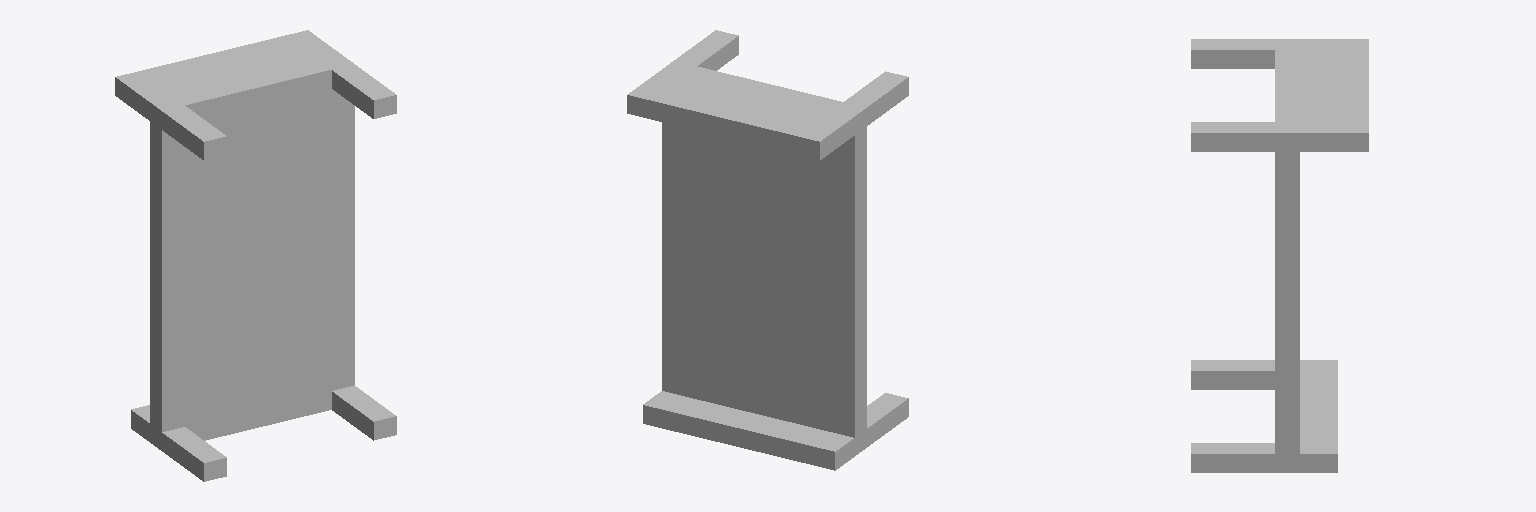
File: bed.obj
3 renders of one model, left to right at view 1: azimuth 30°, elevation 25°; view 2: azimuth 150°, elevation 25°; view 3: azimuth 270°, elevation 25°, orthographic.
Visible parts, largest first — view 1: Bed; view 2: Bed; view 3: Bed.
Part boxes in pixels (x1,y1,x2,y2): Bed: (115, 30, 396, 481); Bed: (627, 30, 908, 470); Bed: (1191, 39, 1368, 472).
Bounding box in the file's own units: 9.23 × 15.57 × 7.35.